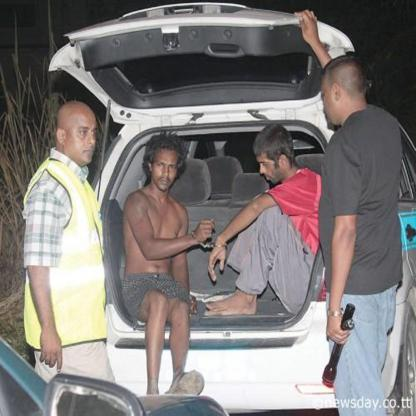face: (323, 69, 355, 123), (68, 111, 98, 165), (258, 144, 282, 185), (154, 150, 178, 190)
